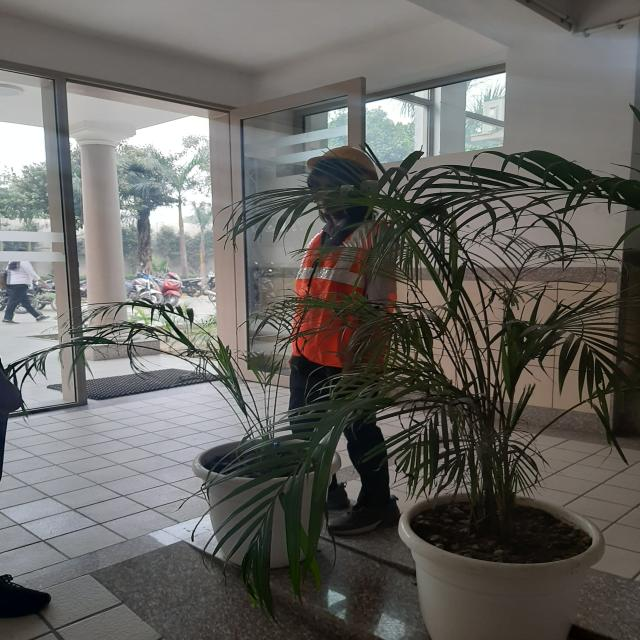safe: (284, 144, 384, 533)
